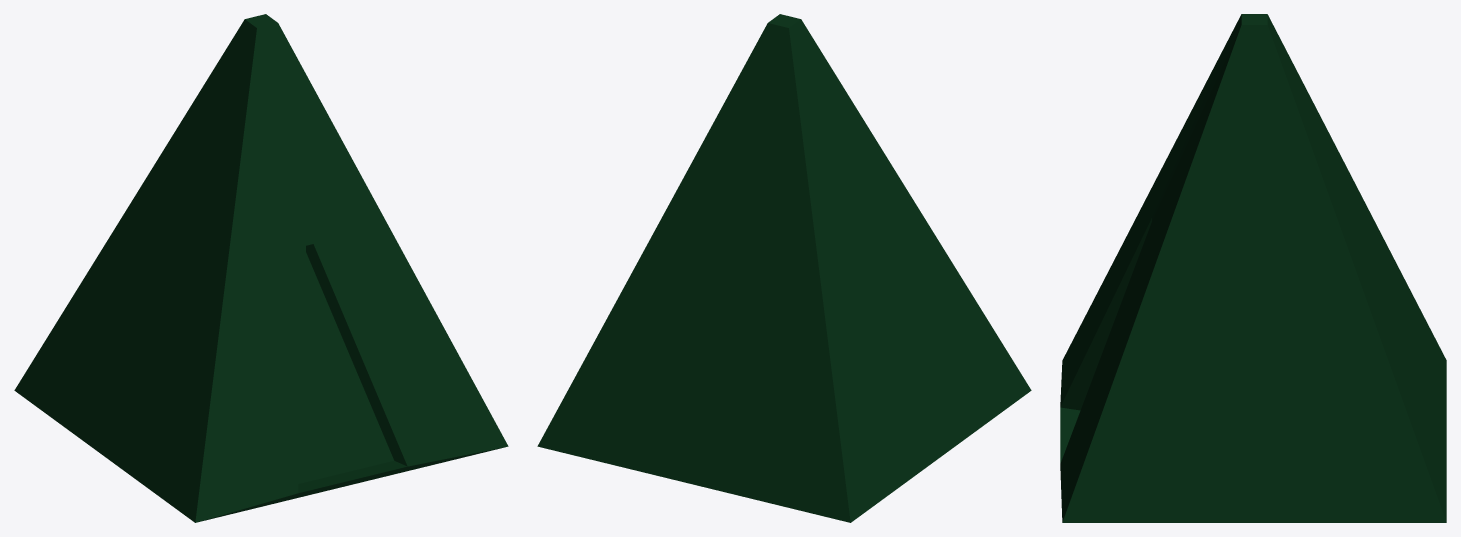
The model's file is tent.fbx.
3 renders of one model, left to right at view 1: azimuth 30°, elevation 25°; view 2: azimuth 150°, elevation 25°; view 3: azimuth 270°, elevation 25°, orthographic. The views are drawn at different scales.
Visible parts, largest first — view 1: Cube; view 2: Cube; view 3: Cube.
Boxes of the visible parts, box(x1,y1,x2,y2) form: Cube: box(14, 14, 508, 522); Cube: box(537, 14, 1031, 522); Cube: box(1060, 14, 1446, 522).
Size of the model in its own units: 2.15 by 2.59 by 2.14.
